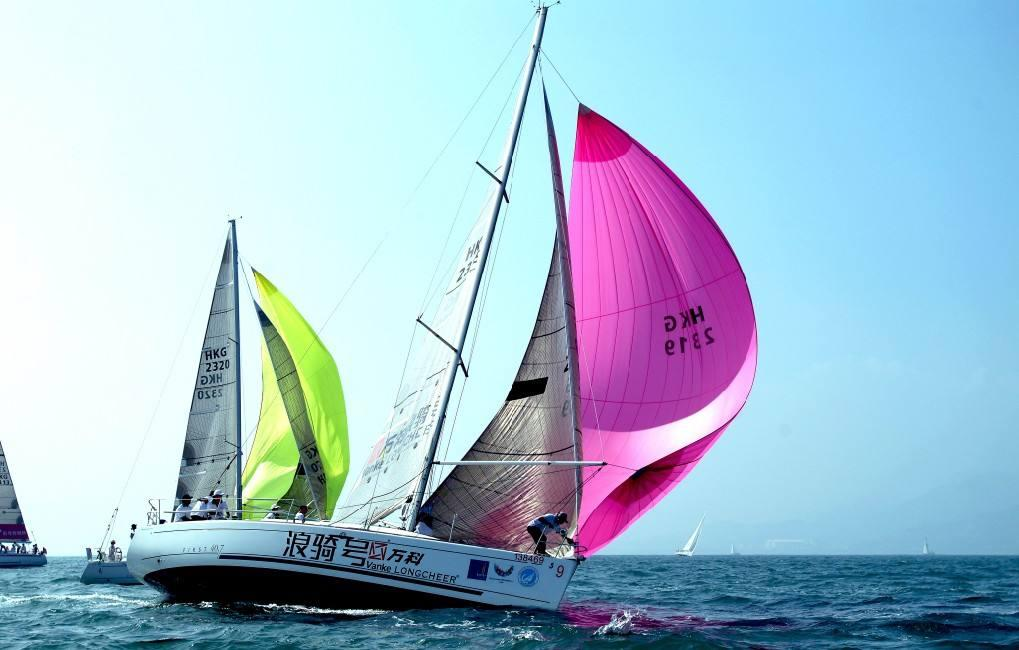fanchuan: (133, 1, 758, 611)
